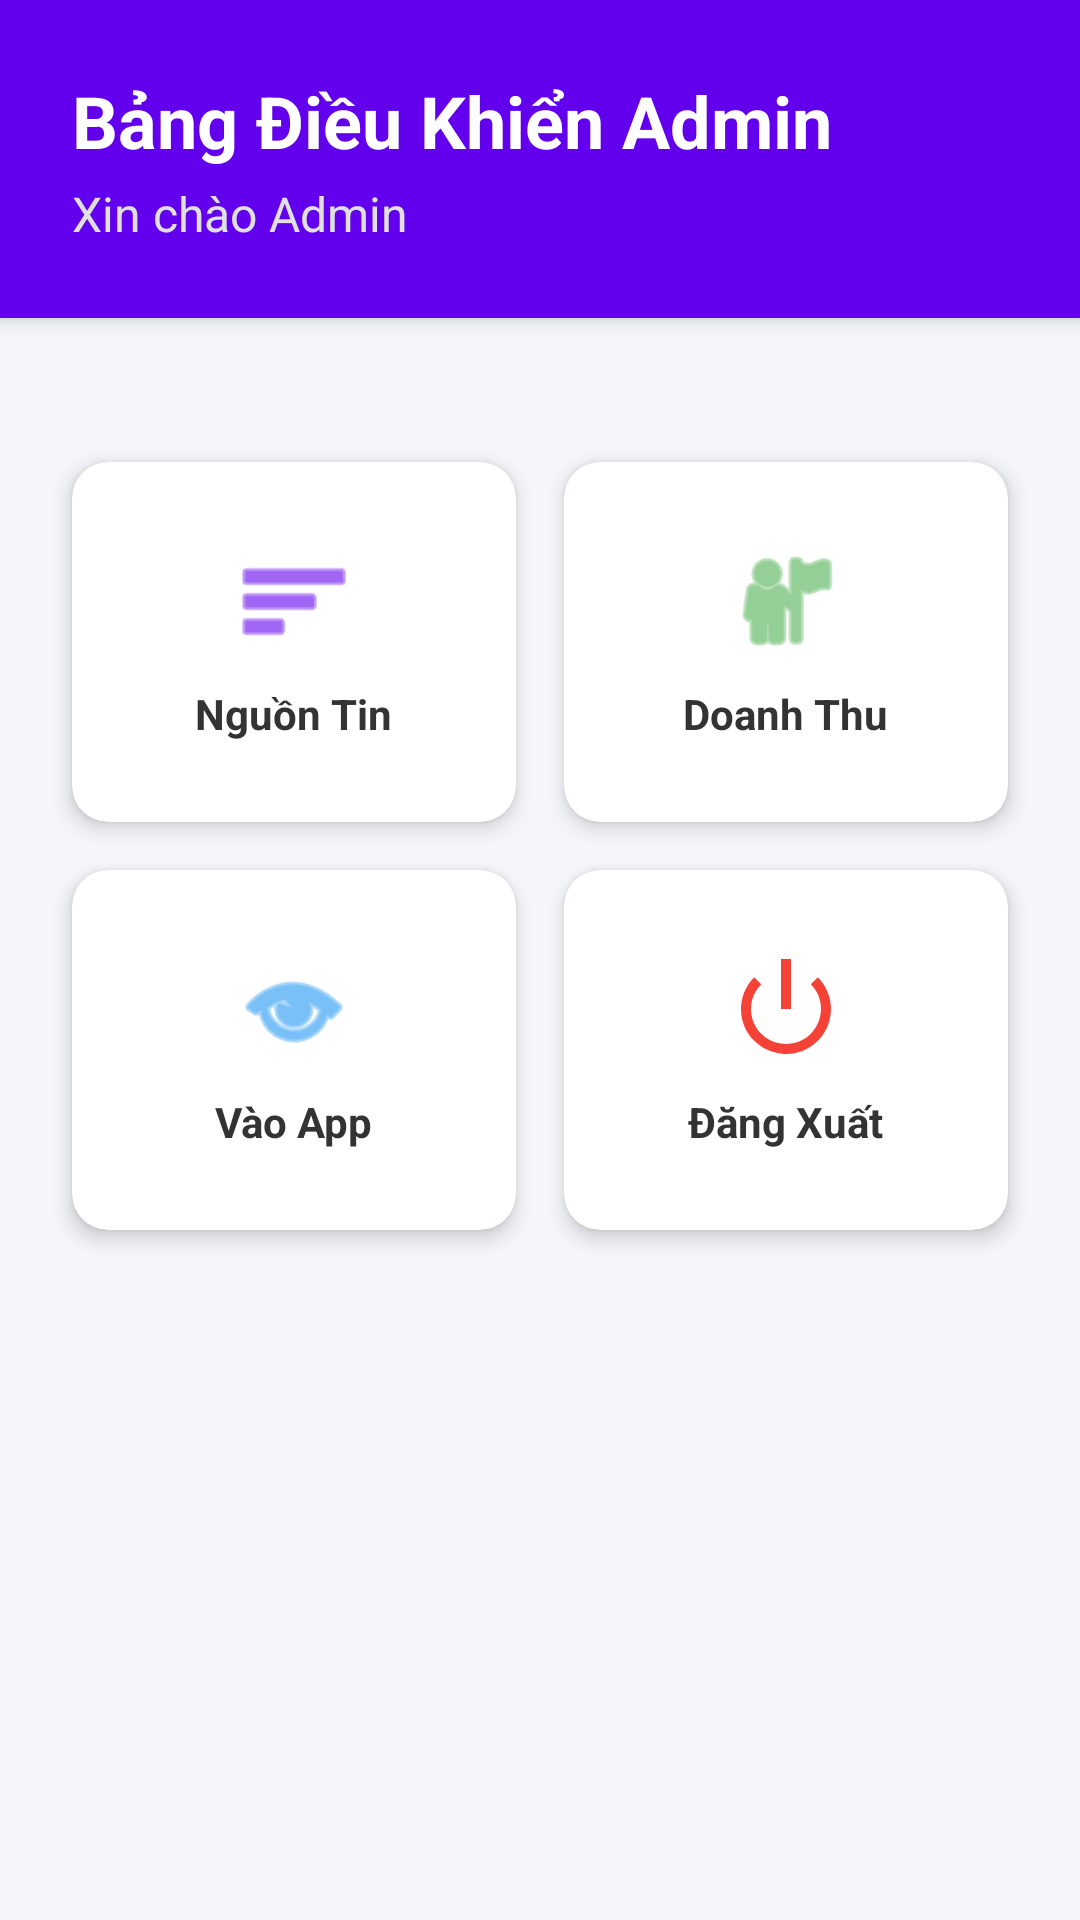

Named icons in this screenshot (1080×1920) and their centers, (x=x, y=y):
lock power off: (x=786, y=1006)
myplaces: (x=787, y=601)
sort by size: (x=294, y=601)
view: (x=294, y=1012)
